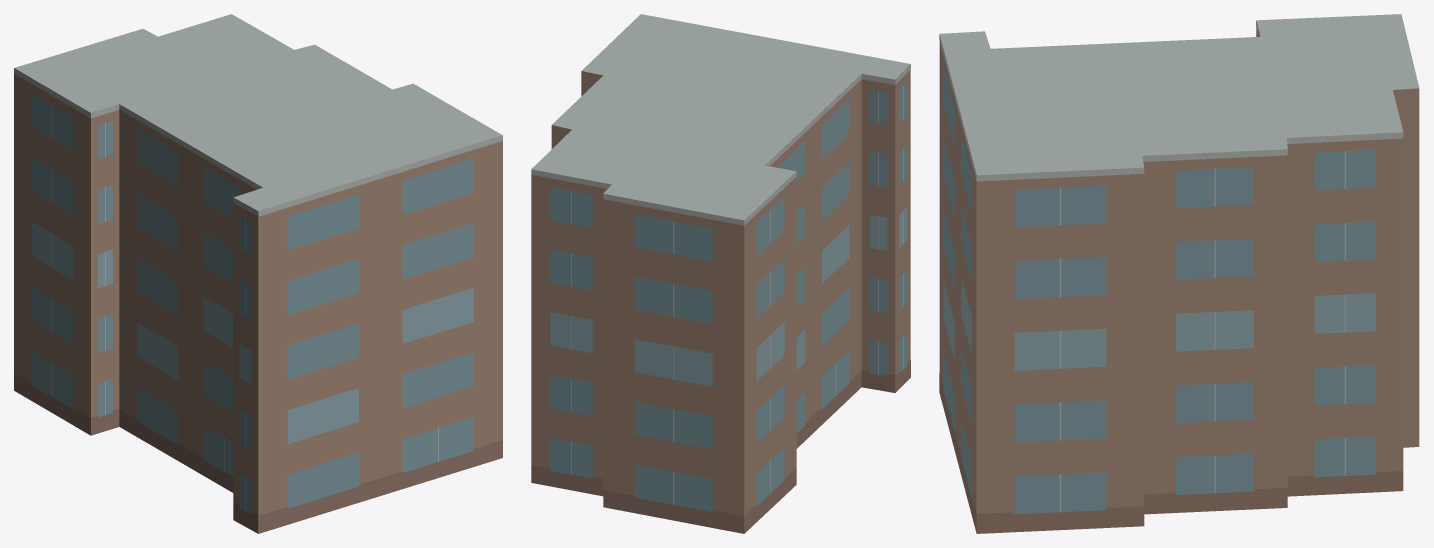
File: survey-upis-32633718.glb
3 renders of one model, left to right at view 1: azimuth 30°, elevation 25°; view 2: azimuth 150°, elevation 25°; view 3: azimuth 270°, elevation 25°, orthographic. The views are drawn at different scales.
Visible parts, largest first — view 1: survey-upis-32633718.tmp; view 2: survey-upis-32633718.tmp; view 3: survey-upis-32633718.tmp.
Part boxes in pixels (box(x1,y1,x2,y2)): survey-upis-32633718.tmp: box(14, 14, 502, 533); survey-upis-32633718.tmp: box(531, 14, 910, 533); survey-upis-32633718.tmp: box(939, 14, 1419, 533).
Bounding box in the file's own units: 13.72 × 14.2 × 17.24.
